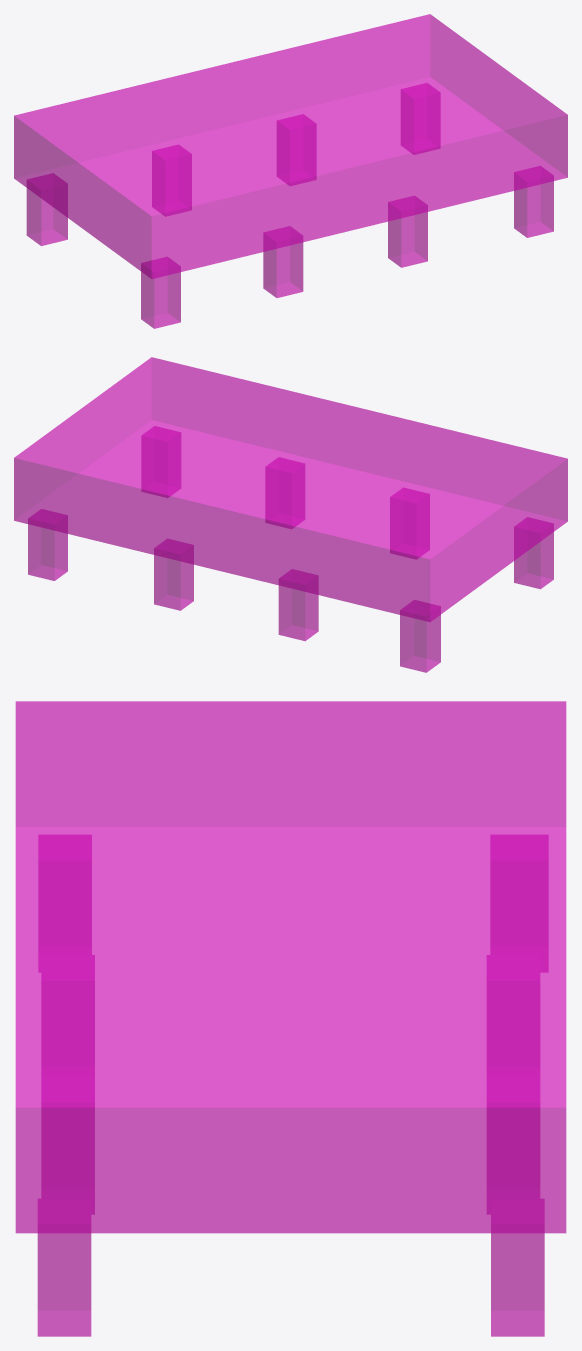
File: SM_Prop_Pool_Table_01_Collision.fbx
3 views of the same model, one above another, from view 1: azimuth 30°, elevation 25°; view 2: azimuth 150°, elevation 25°; view 3: azimuth 270°, elevation 25° (orthographic). The views are drawn at different scales.
Parts seen in each view (by area): view 1: SM_Prop_Pool_Table_01_Collision; view 2: SM_Prop_Pool_Table_01_Collision; view 3: SM_Prop_Pool_Table_01_Collision.
Part boxes in pixels (x1,y1,x2,y2): SM_Prop_Pool_Table_01_Collision: (14, 14, 567, 328); SM_Prop_Pool_Table_01_Collision: (14, 357, 567, 672); SM_Prop_Pool_Table_01_Collision: (15, 701, 566, 1336).
Size of the model in its own units: 336 by 91.58 by 193.
